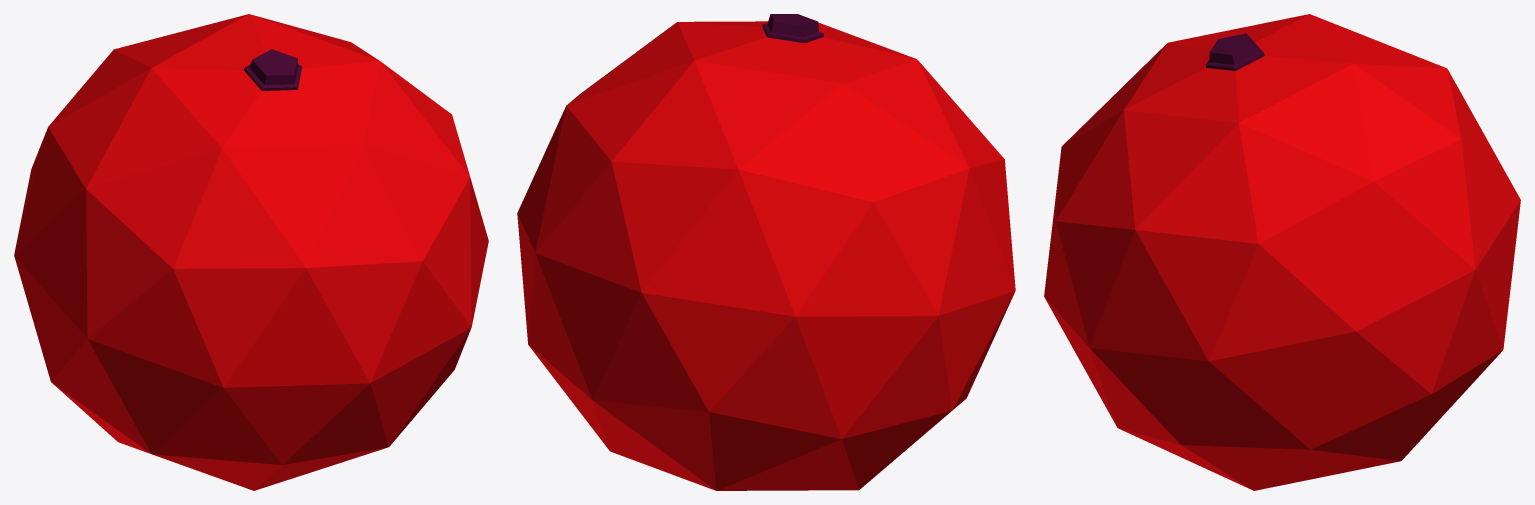
The model's file is Orange_01.fbx.
3 views of the same model, side by side, from view 1: azimuth 30°, elevation 25°; view 2: azimuth 150°, elevation 25°; view 3: azimuth 270°, elevation 25° (orthographic). The views are drawn at different scales.
Parts seen in each view (by area): view 1: Orange_01; view 2: Orange_01; view 3: Orange_01.
Part boxes in pixels (<box>): Orange_01: <box>14,14,488,490</box>; Orange_01: <box>517,14,1015,490</box>; Orange_01: <box>1044,14,1520,490</box>.
Bounding box in the file's own units: 5.28 × 5.22 × 5.42.
